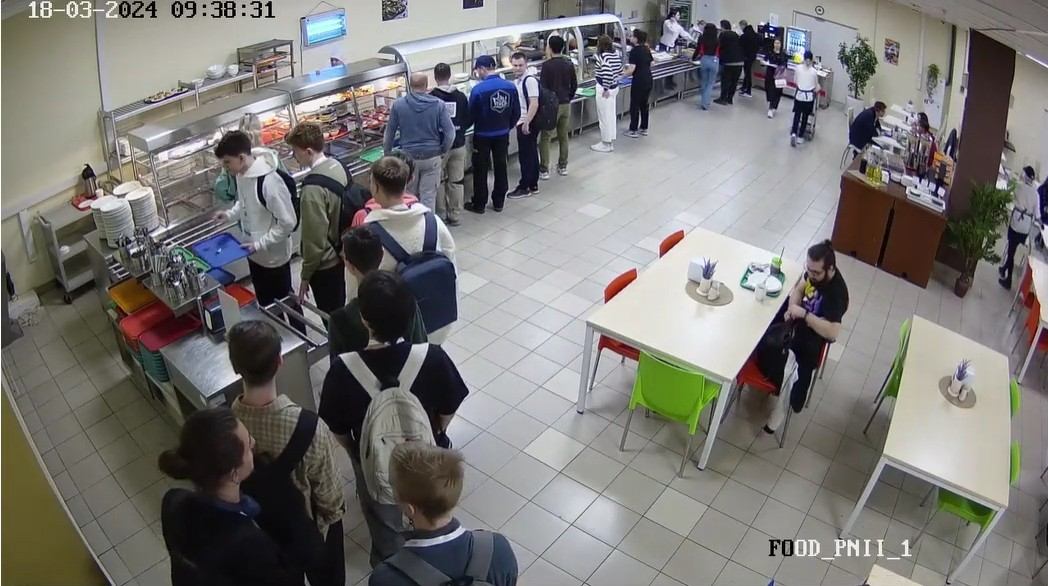Na_Kasse: (714, 17, 741, 106), (758, 30, 781, 106), (698, 25, 718, 112), (734, 18, 756, 94)
Ne_v_Ocheredi: (313, 277, 441, 462), (156, 414, 278, 583), (365, 445, 503, 586), (203, 322, 301, 469), (358, 155, 434, 278), (317, 224, 380, 294)
Personal: (784, 52, 817, 142), (662, 4, 690, 41), (499, 23, 522, 52)
Vybiraet: (217, 138, 286, 286), (289, 129, 349, 273), (531, 30, 579, 176), (390, 68, 438, 211), (465, 52, 505, 216), (501, 53, 544, 193), (619, 22, 658, 142), (434, 65, 463, 219), (591, 34, 625, 155), (237, 111, 261, 142)
Za_Stolom: (760, 241, 864, 349), (839, 99, 893, 166), (908, 107, 936, 144)
